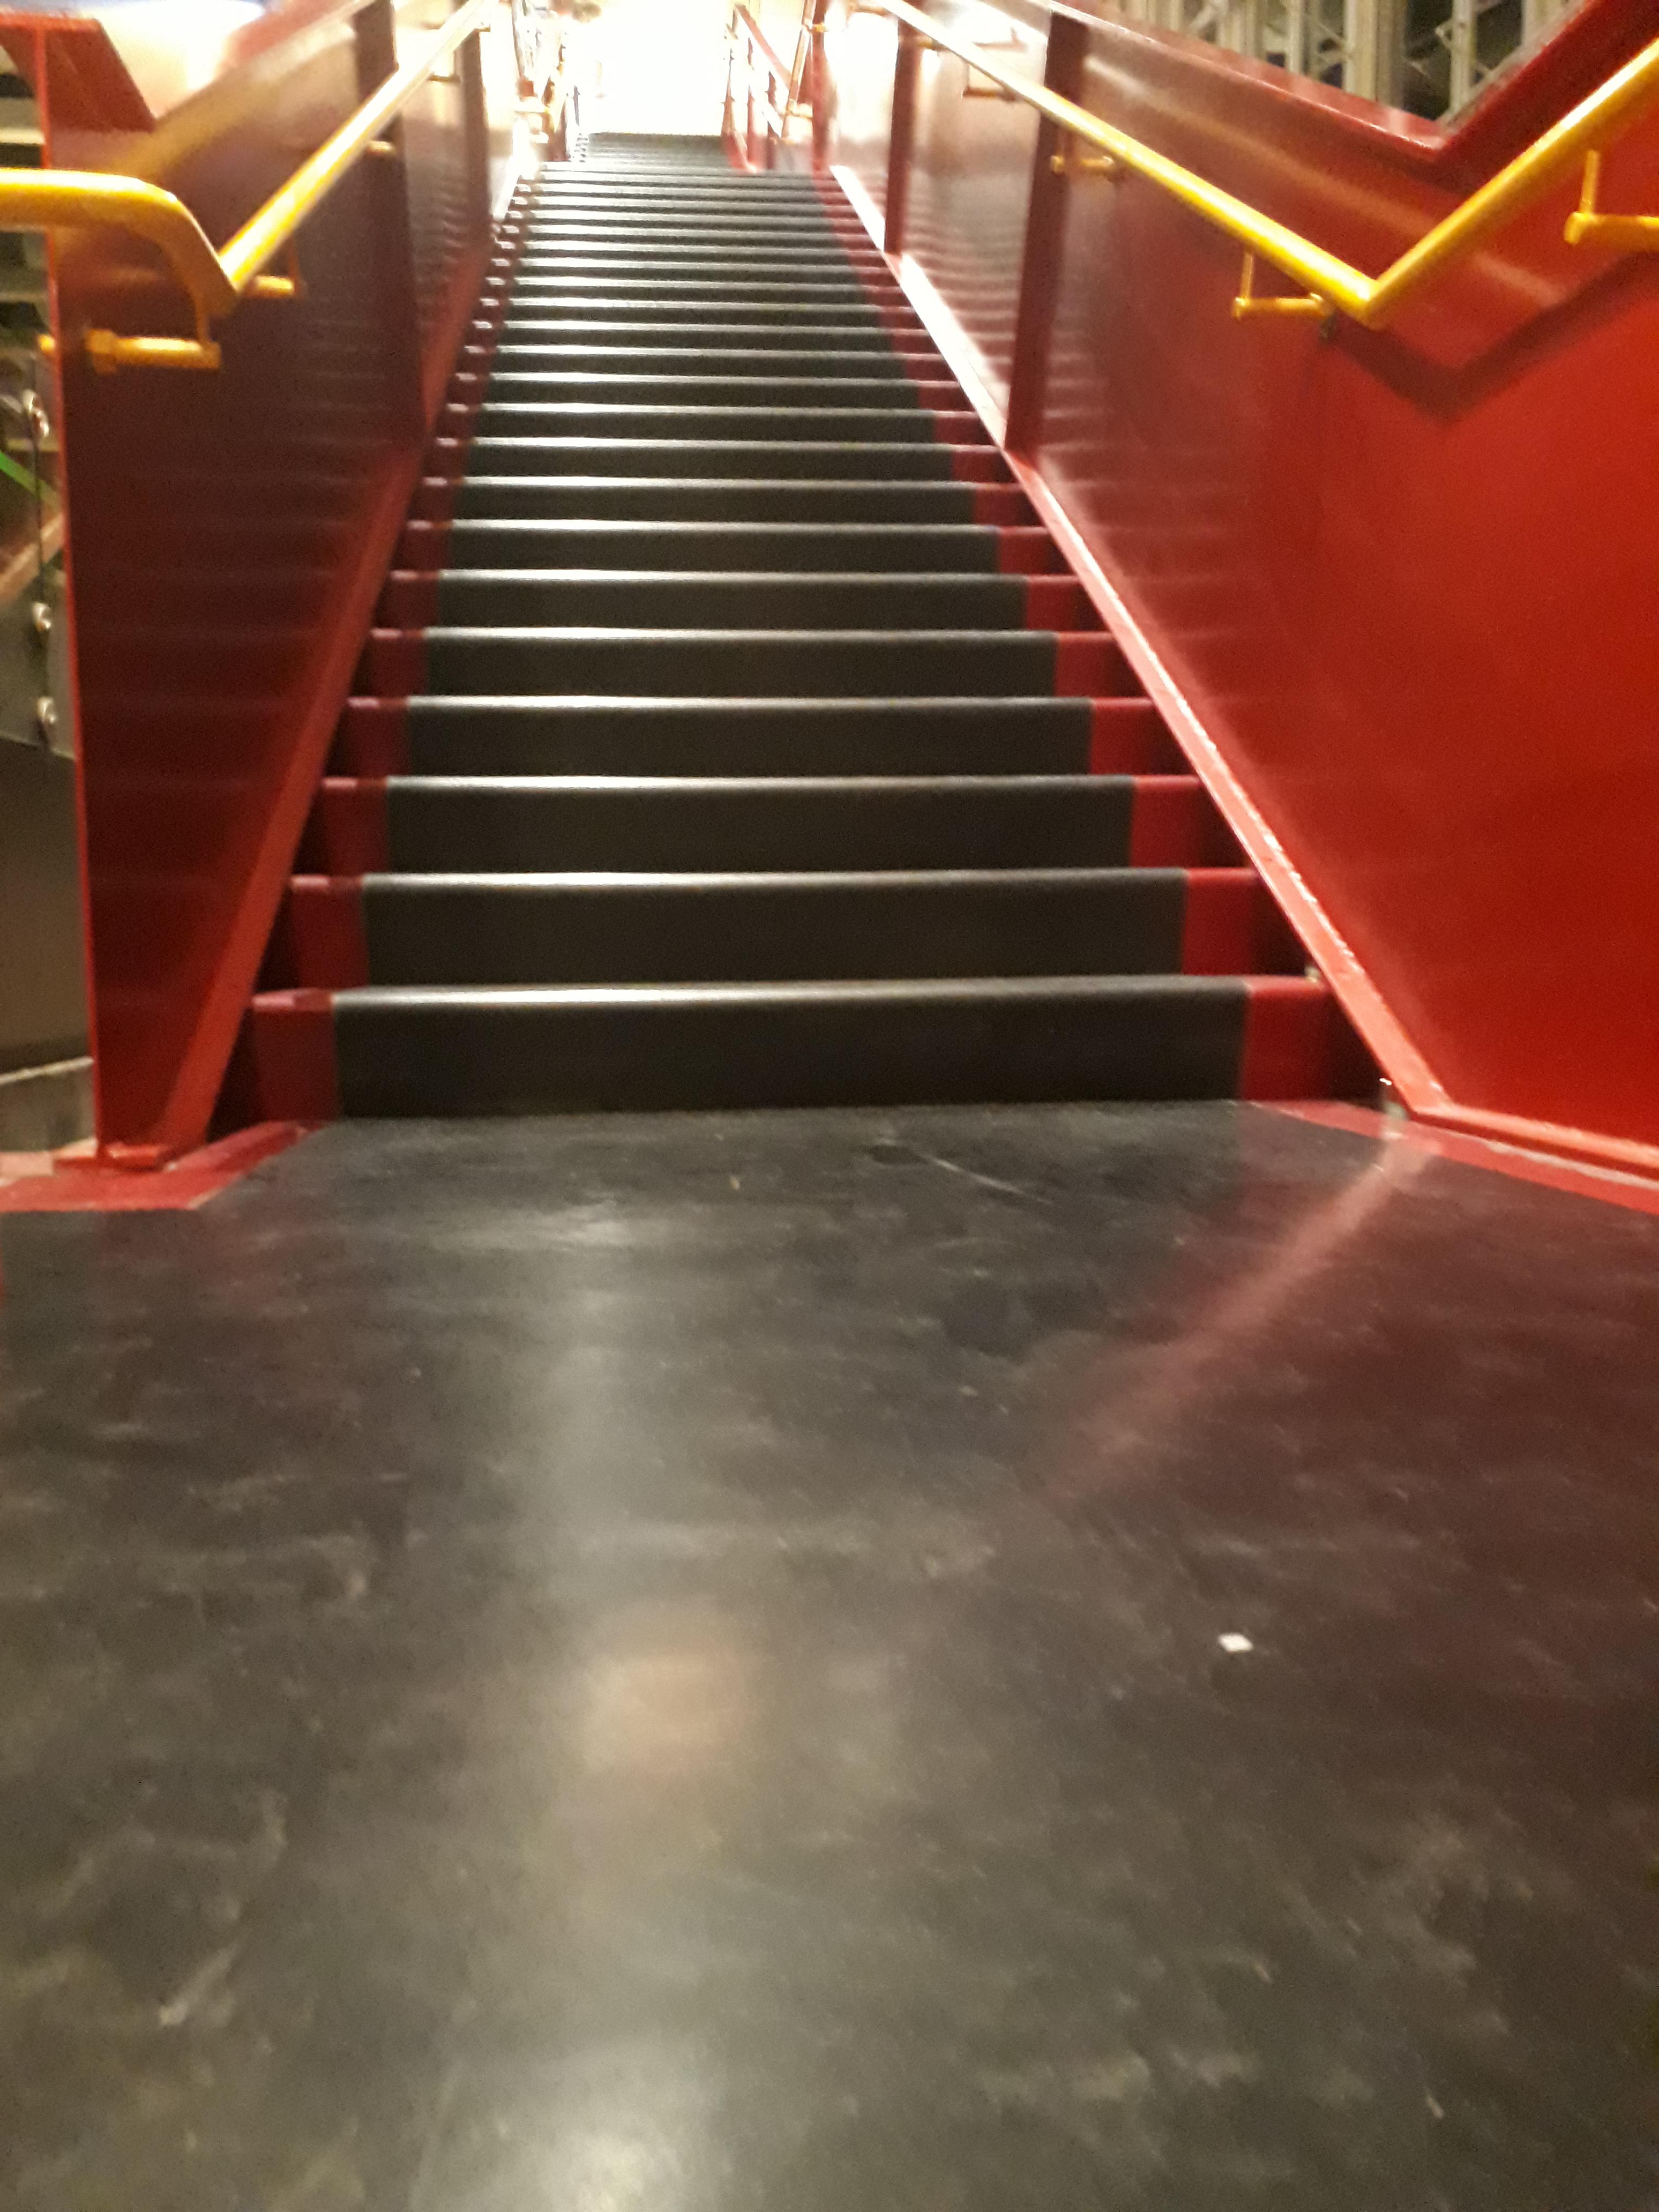stair: (207, 127, 1378, 1125)
